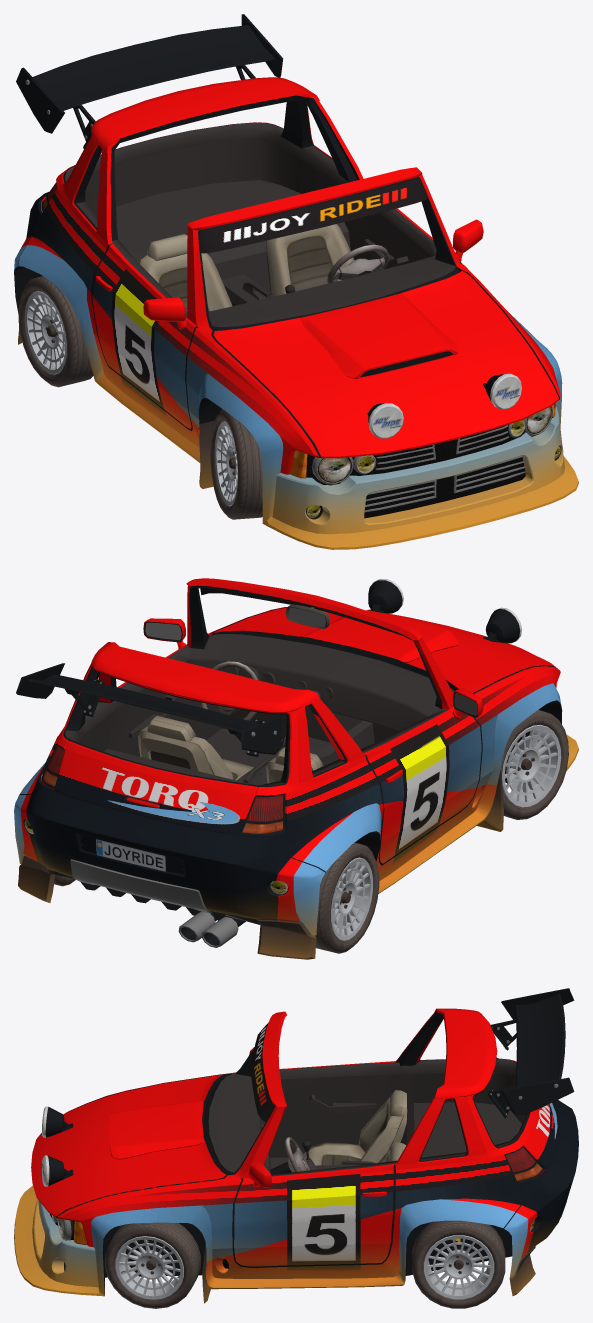
File: tunercar1.glb
The picture shows the model from 3 angles, top to bottom: view 1: azimuth 30°, elevation 25°; view 2: azimuth 150°, elevation 25°; view 3: azimuth 270°, elevation 25°; orthographic projection. The views are drawn at different scales.
Parts seen in each view (by area): view 1: node_id501, node_id493, node_id409, node_id491, node_id505, node_id418, node_id495, node_id468, node_id465, node_id414, node_id472, node_id461 (+9 smaller); view 2: node_id501, node_id493, node_id491, node_id409, node_id461, node_id418, node_id495, node_id468, node_id472, node_id463, node_id443, node_id470 (+8 smaller); view 3: node_id501, node_id493, node_id409, node_id491, node_id475, node_id482, node_id414, node_id486, node_id479, node_id477, node_id484, node_id421 (+5 smaller).
Part boxes in pixels (box(x1,y1,x2,y2)): node_id501: box(14, 77, 578, 549); node_id493: box(65, 122, 455, 326); node_id409: box(16, 14, 283, 148); node_id491: box(14, 95, 561, 519); node_id505: box(306, 417, 552, 518); node_id418: box(266, 224, 354, 296); node_id495: box(311, 406, 552, 512); node_id468: box(24, 291, 66, 374); node_id465: box(218, 409, 262, 519); node_id414: box(139, 253, 232, 311); node_id472: box(21, 276, 93, 387); node_id461: box(214, 421, 237, 506); node_id501: box(14, 578, 578, 959); node_id493: box(65, 634, 454, 785); node_id491: box(19, 585, 562, 924); node_id409: box(16, 663, 283, 756); node_id461: box(502, 724, 561, 807); node_id418: box(138, 715, 253, 780); node_id495: box(70, 859, 212, 913); node_id468: box(331, 857, 372, 941); node_id472: box(315, 842, 376, 953); node_id463: box(500, 718, 568, 815); node_id443: box(178, 911, 238, 947); node_id470: box(329, 850, 379, 949); node_id501: box(14, 1008, 578, 1303); node_id493: box(208, 1058, 528, 1176); node_id409: box(487, 988, 574, 1118); node_id491: box(56, 1012, 559, 1293); node_id475: box(423, 1235, 494, 1299); node_id482: box(115, 1236, 183, 1299); node_id414: box(303, 1097, 407, 1165); node_id486: box(105, 1222, 200, 1308); node_id479: box(412, 1220, 505, 1308); node_id477: box(417, 1230, 500, 1306); node_id484: box(108, 1231, 189, 1306); node_id421: box(285, 1137, 310, 1172).
Bounding box in the file's own units: 0.512 × 0.3761 × 0.8963.
54 materials, 54 textured.
